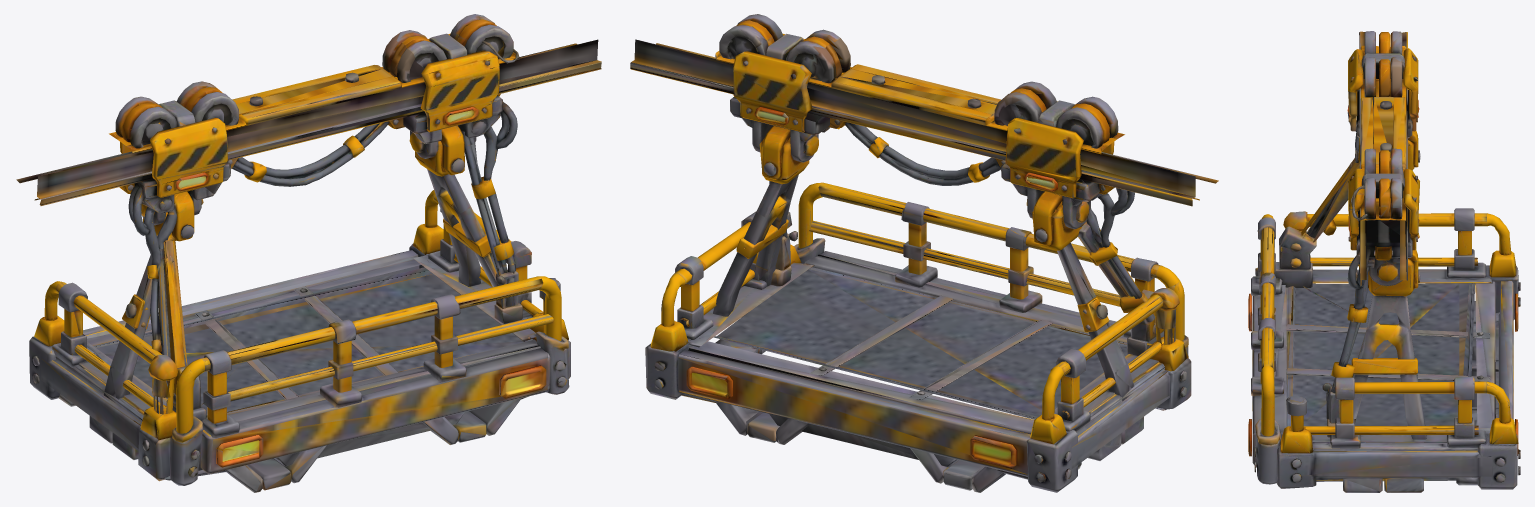
File: trolley_car.glb
3 renders of one model, left to right at view 1: azimuth 30°, elevation 25°; view 2: azimuth 150°, elevation 25°; view 3: azimuth 270°, elevation 25°, orthographic. The views are drawn at different scales.
Size of what is drawn, in the model's own units: 1.58 by 0.948 by 0.7325.
1 material, 1 textured.
